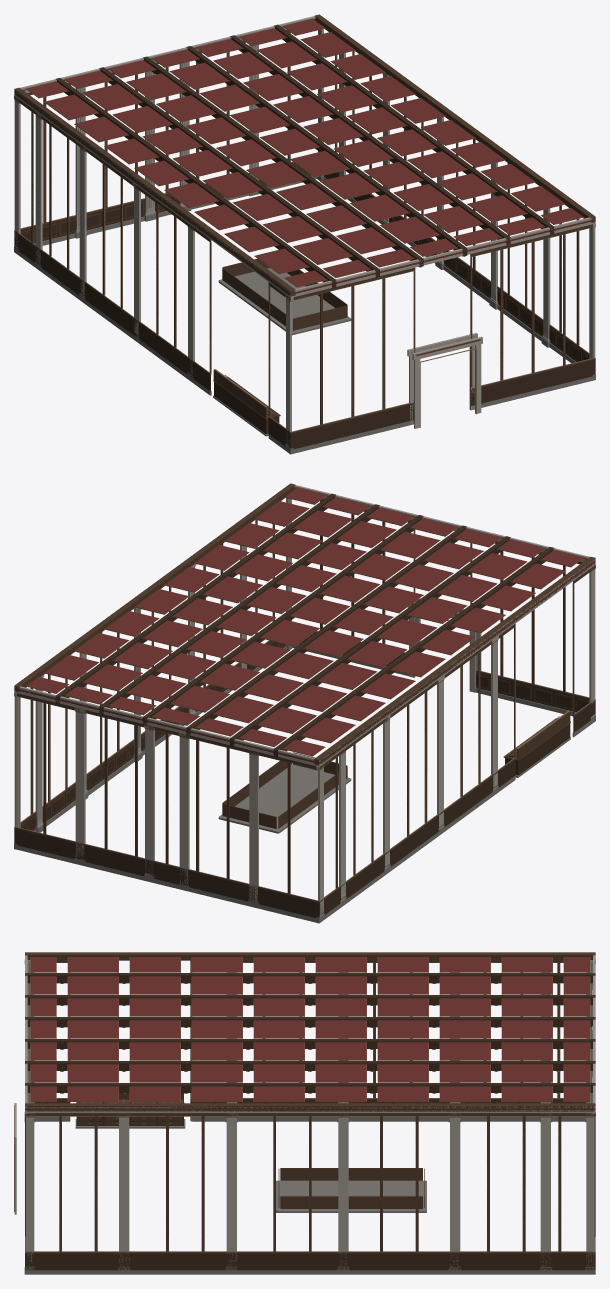
Rendered from rewrite.glb.
3 renders of one model, top to bottom at view 1: azimuth 30°, elevation 25°; view 2: azimuth 150°, elevation 25°; view 3: azimuth 270°, elevation 25°, orthographic. The views are drawn at different scales.
Parts seen in each view (by area): view 1: m8_rewrite; view 2: m8_rewrite; view 3: m8_rewrite.
Boxes of the visible parts, box(x1,y1,x2,y2) form: m8_rewrite: box(14, 14, 595, 454); m8_rewrite: box(14, 483, 595, 923); m8_rewrite: box(14, 952, 595, 1274).
Size of the model in its own units: 17.6 by 9 by 28.15.
